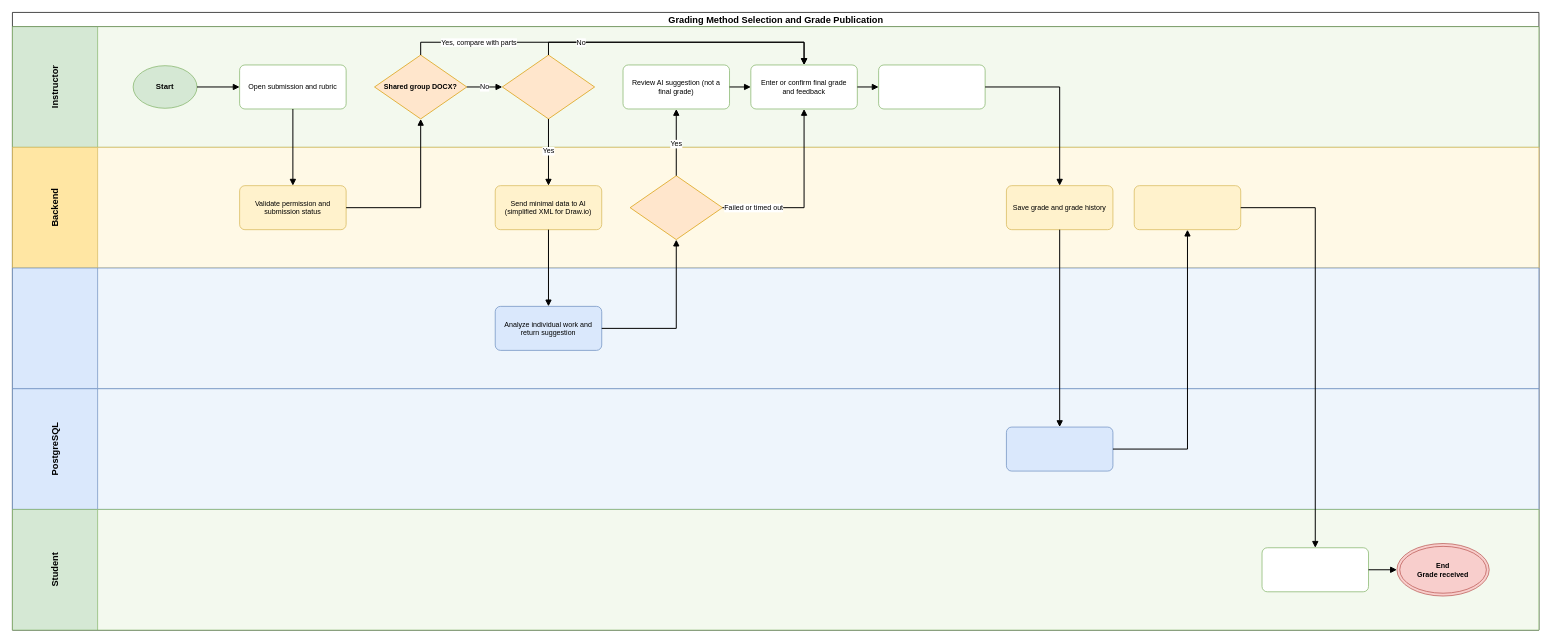
Some shapes in this 1551 by 643 pixel diagram are drawn without their labels. Each missing label, with the box of its shape:
Finalize and publish grade: (878, 64, 985, 109)
Notify student or group: (1134, 185, 1241, 230)
RabbitMQ and AI Worker: (12, 267, 1539, 389)
Request AI suggestion?: (502, 54, 595, 119)
Store individual or shared grade separately: (1006, 426, 1113, 471)
Suggestion received?: (629, 175, 722, 240)
View published grade: (1261, 547, 1369, 592)
